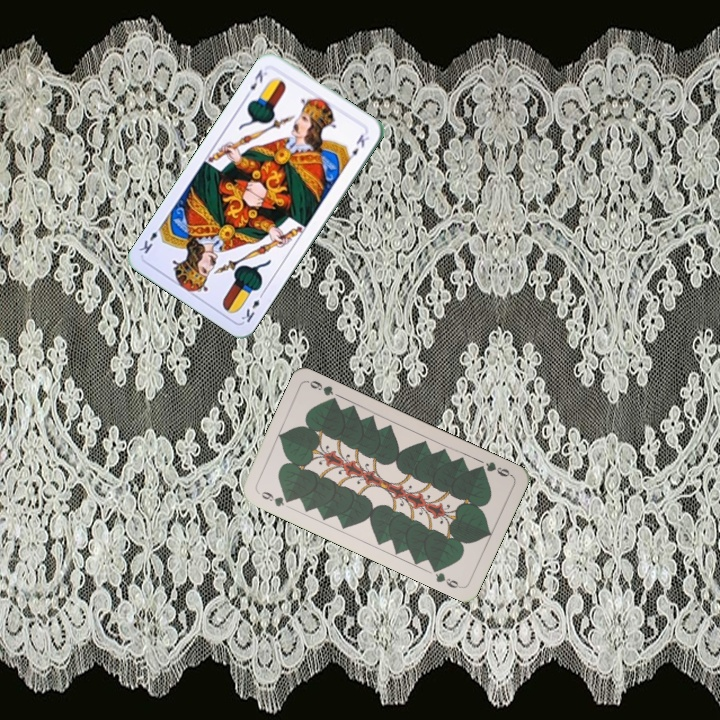EK: (237, 288, 267, 325), (243, 63, 272, 100)
G9: (473, 458, 514, 480), (254, 487, 294, 509)
